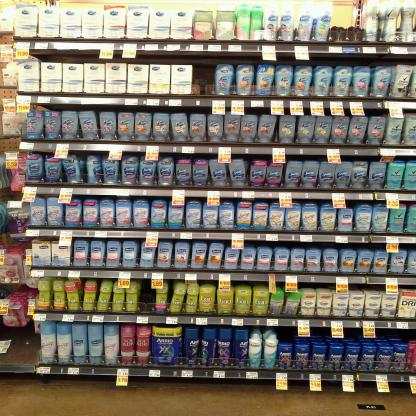Void: (13, 328, 38, 367), (191, 63, 213, 98), (139, 282, 152, 312)
